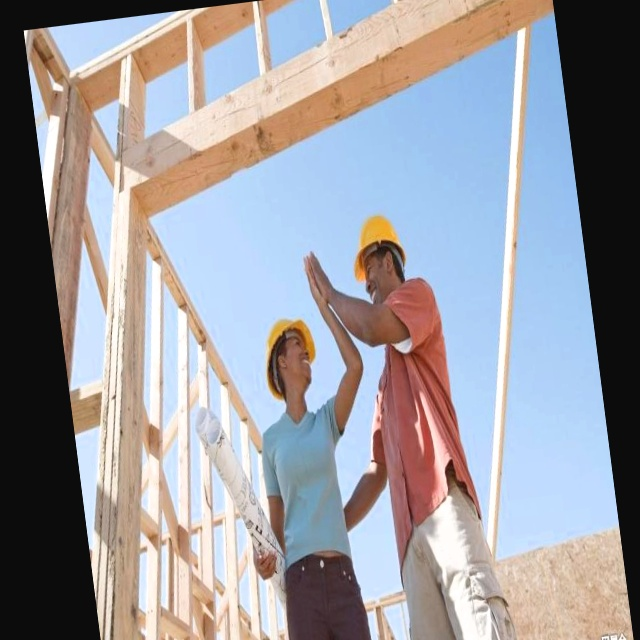Sin_Chaleco: (255, 399, 348, 579)
